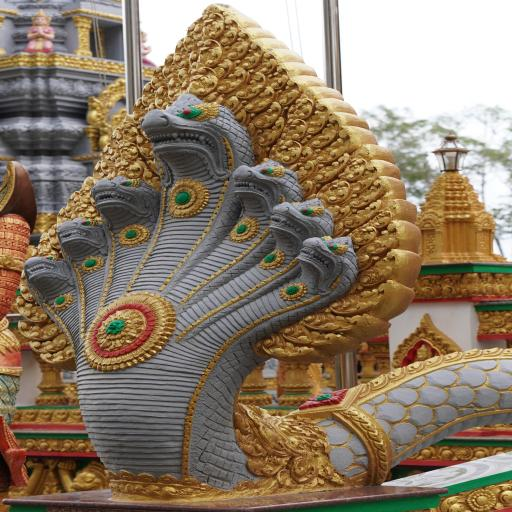ran: (26, 0, 512, 509)
than: (0, 78, 45, 494)
